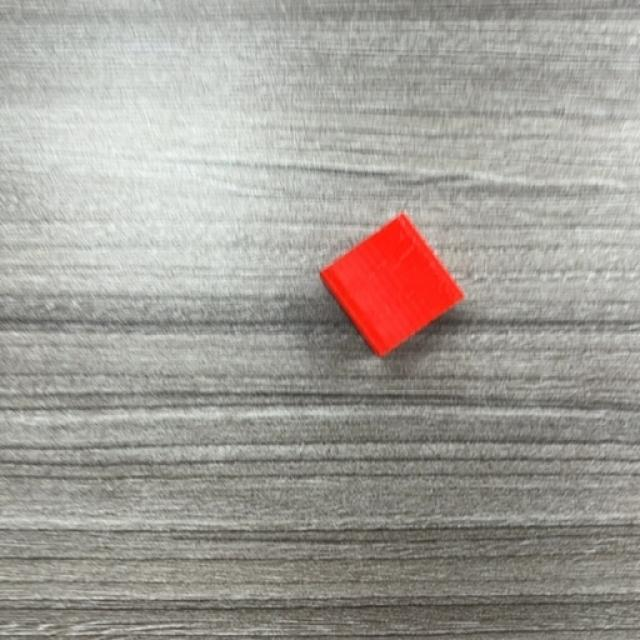Rojo: (318, 214, 465, 359)
